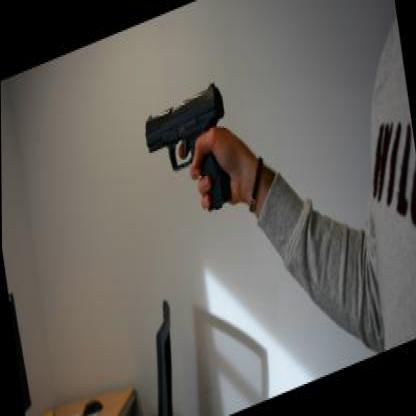pistol: (140, 77, 236, 232)
